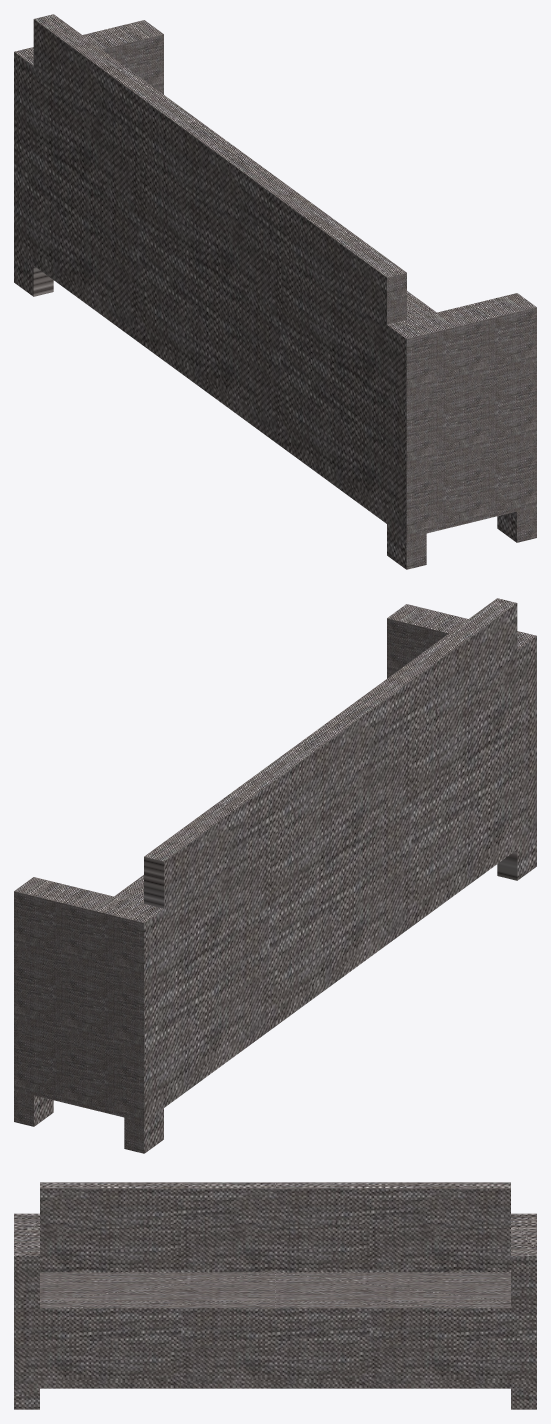
Rendered from Couch.fbx.fbx.
3 renders of one model, top to bottom at view 1: azimuth 30°, elevation 25°; view 2: azimuth 150°, elevation 25°; view 3: azimuth 270°, elevation 25°, orthographic. The views are drawn at different scales.
Parts seen in each view (by area): view 1: Couch; view 2: Couch; view 3: Couch.
Part boxes in pixels (x1=…): Couch: x1=14, y1=14, x2=536, y2=569; Couch: x1=14, y1=598, x2=536, y2=1153; Couch: x1=14, y1=1182, x2=536, y2=1409.
Bounding box in the file's own units: 52.15 × 106 × 272.
